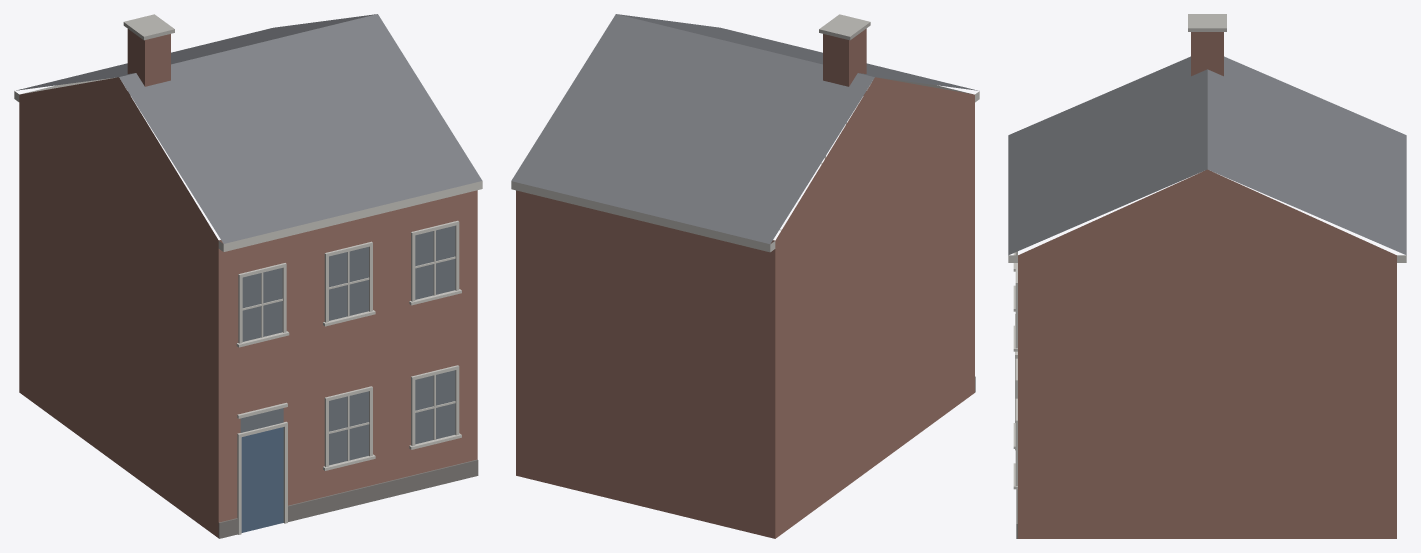
File: terrace_60.glb
The picture shows the model from 3 angles, left to right: view 1: azimuth 30°, elevation 25°; view 2: azimuth 150°, elevation 25°; view 3: azimuth 270°, elevation 25°; orthographic projection. The views are drawn at different scales.
Parts seen in each view (by area): view 1: Part0; view 2: Part0; view 3: Part0.
Boxes of the visible parts, <box> form: Part0: <box>14,14,482,538</box>; Part0: <box>511,14,979,538</box>; Part0: <box>1008,14,1406,538</box>.
Size of the model in its own units: 6 by 9.58 by 8.4.
